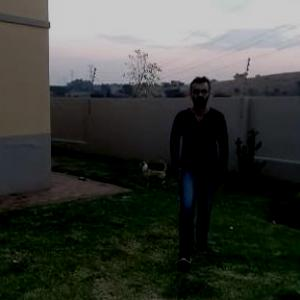follow: (170, 78, 222, 239)
